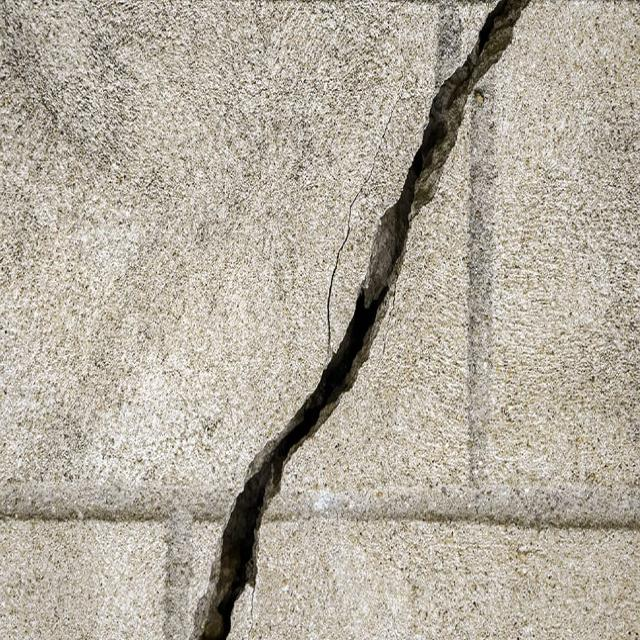Crack: (193, 0, 529, 639)
